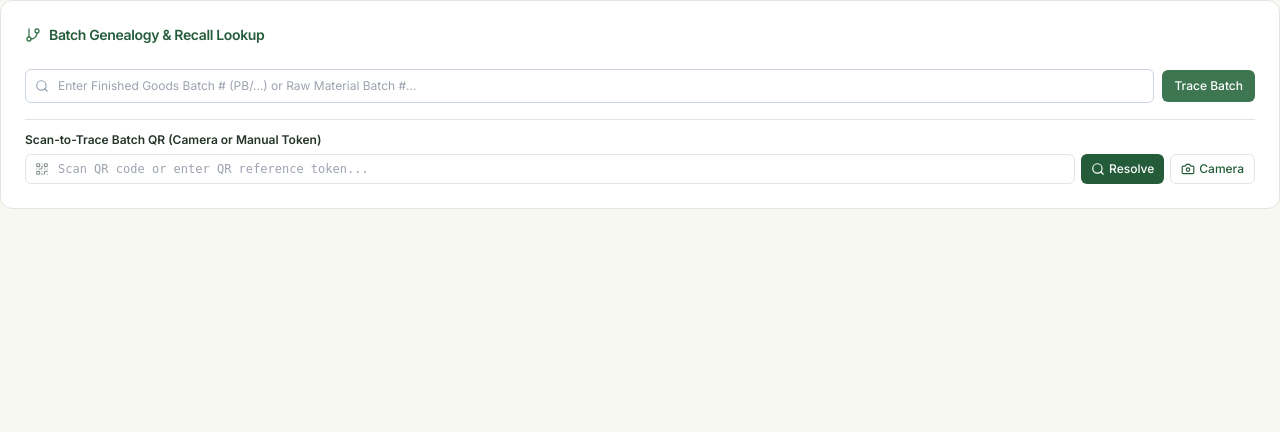
Test case: Phase 3.5 Frontend Material & Finished Goods Suite › performs recall lookup on BatchTraceabilityPage
Replace the text in the field with placeholder "Enter Finished Goods Batch" with "PB/2026-27/00001" at (590, 86), box [25,69,1154,103]
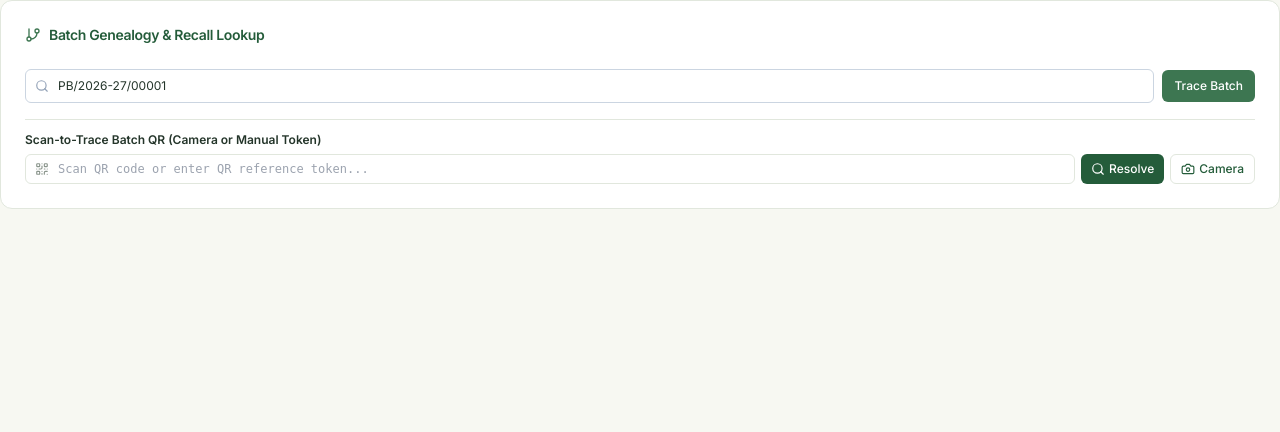
Click the button "Trace Batch".
click(1209, 86)  # box [1162,70,1255,102]
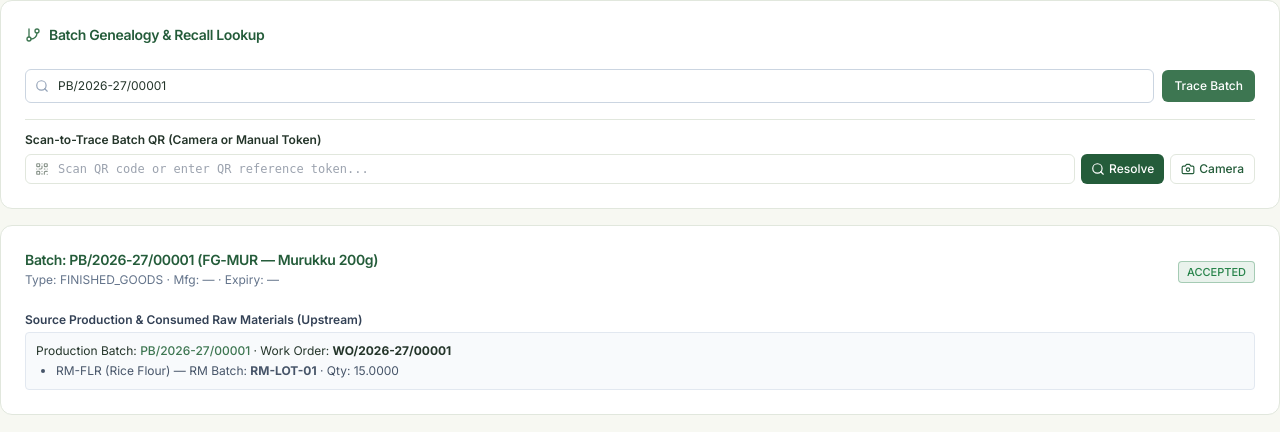
Now the text "RM-LOT-01" is shown, box [250,363,317,378]
